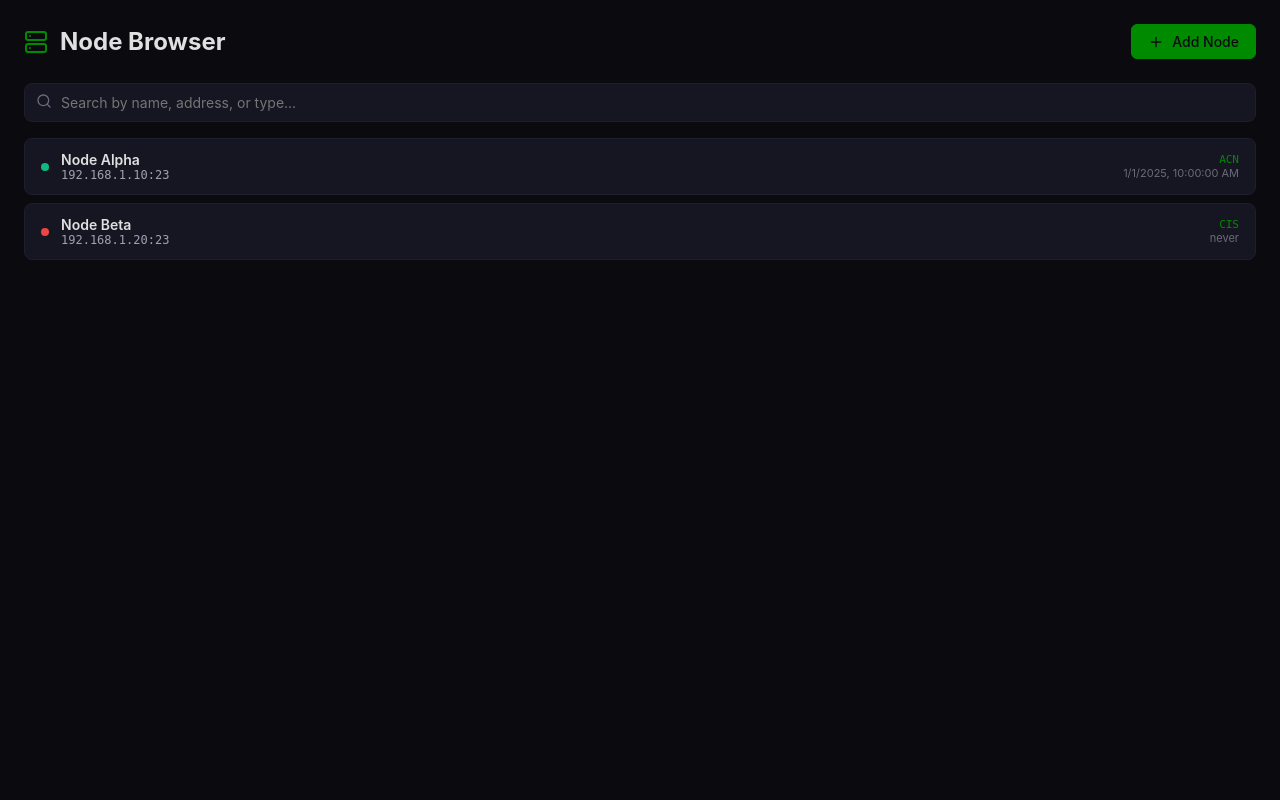
Test: NodeBrowser › opens connect form modal when Add Node is clicked
Expected: the text "Node Alpha" is shown, [61, 151, 140, 168]
// There are two "Add Node" buttons (header + empty state is hidden since we have nodes)
Click the button "Add Node": coordinates (1194, 42) [1131, 24, 1256, 59]
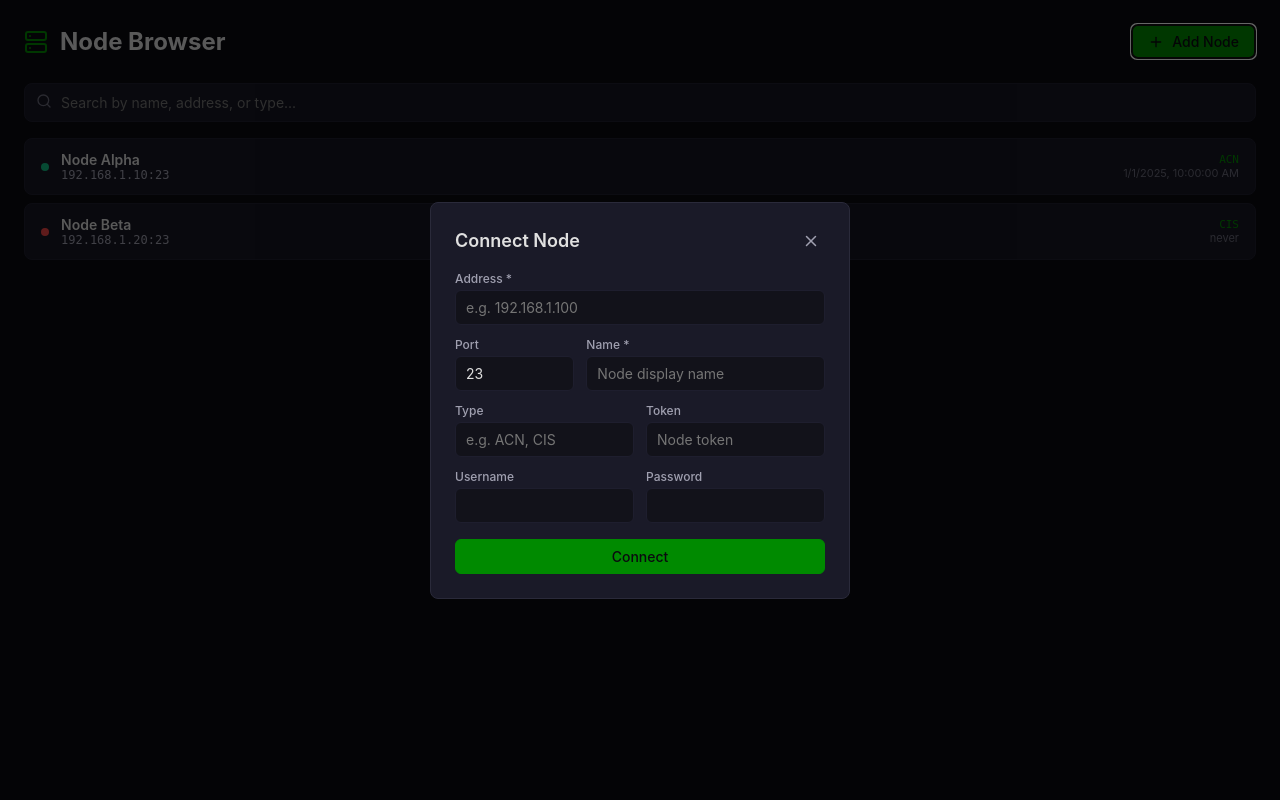
Expected: the heading "Connect Node" is shown, [455, 230, 580, 251]
Expected: the field with placeholder "e.g. 192.168.1.100" is shown, [455, 290, 825, 324]
Expected: the field with placeholder "Node display name" is shown, [586, 356, 825, 390]
